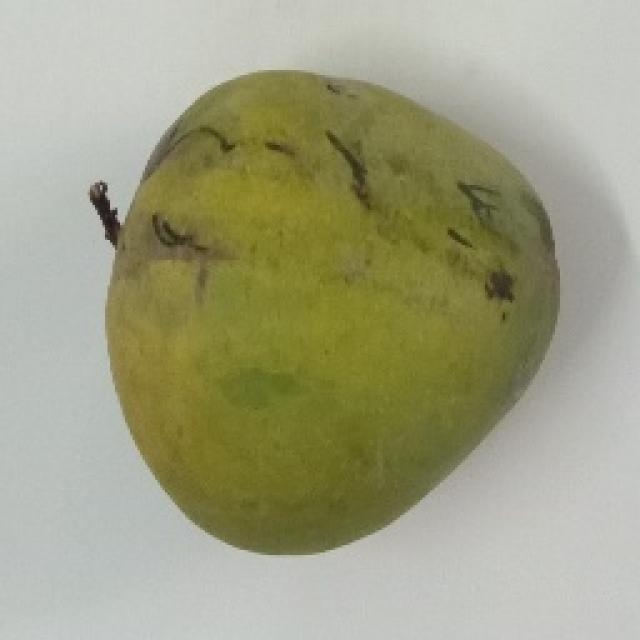defective: (85, 65, 560, 555)
